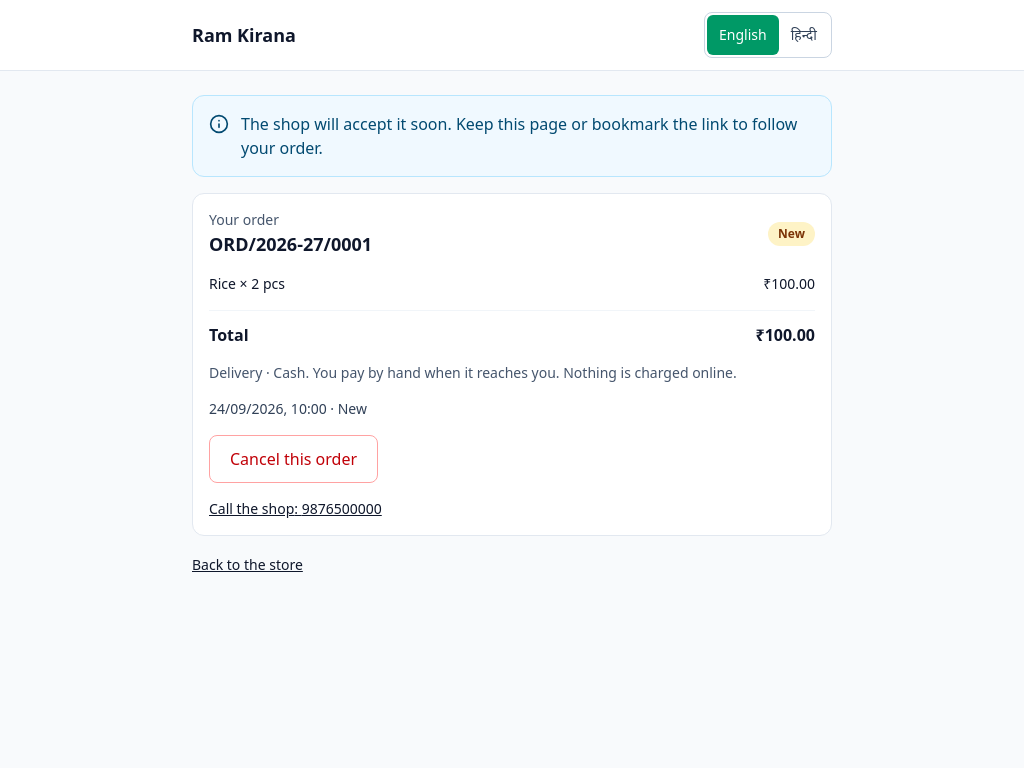
order tracking › shows the order for the token and lets the customer cancel before it is accepted
Expected: the text "ORD/2026-27/0001" is shown, [209,230,372,258]
Click the button "Cancel this order" at (294, 459), box [209,435,378,483]
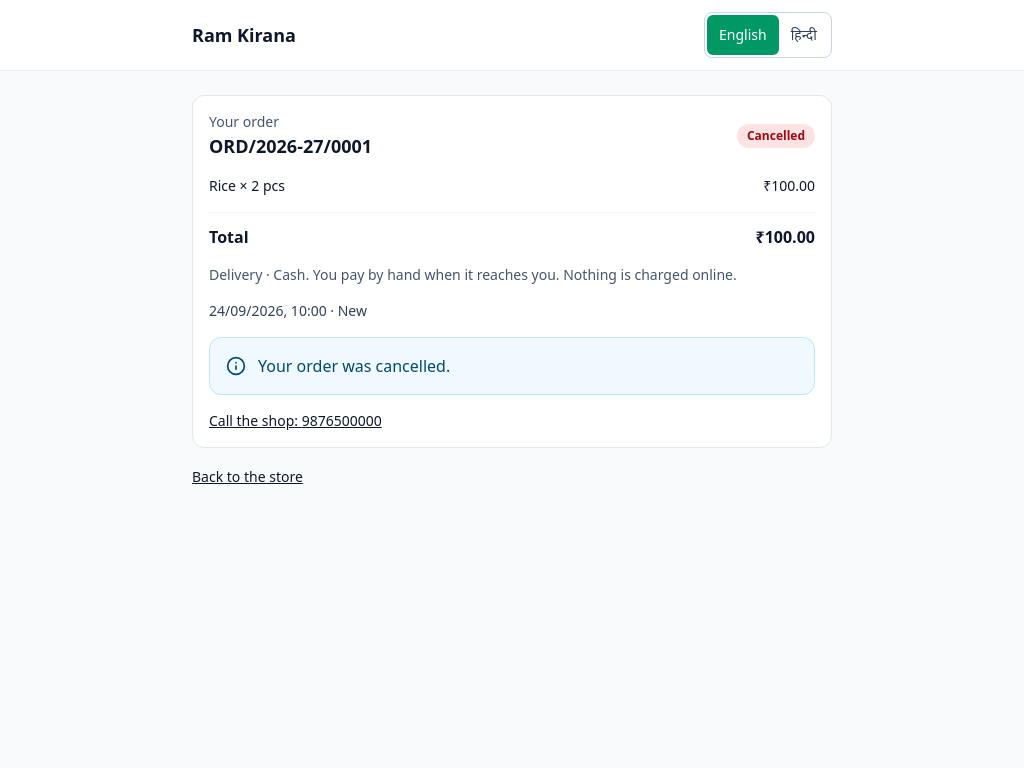
Now the text "Your order was cancelled." is shown, box [258,355,450,377]
